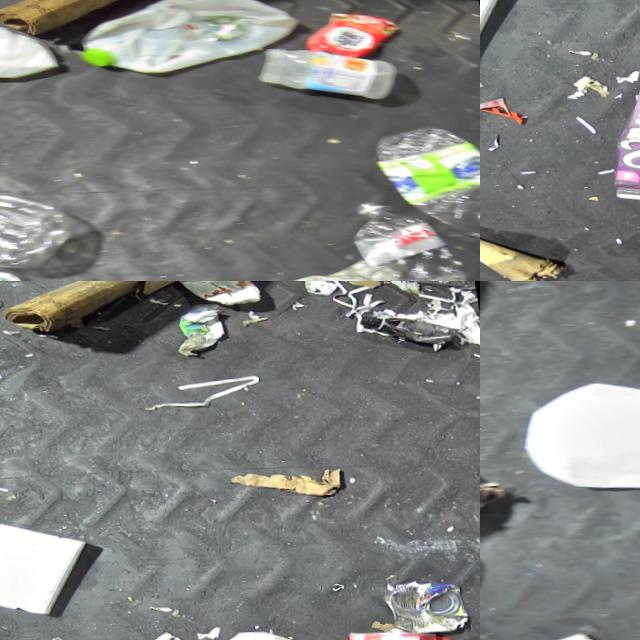can: (299, 4, 407, 57), (371, 574, 465, 633), (175, 281, 266, 305), (336, 623, 435, 640)
milk_jug: (63, 0, 313, 80), (508, 371, 640, 496), (0, 21, 65, 91)
non_white_jug: (585, 69, 640, 207)
plastic_bottle: (364, 118, 480, 257), (335, 191, 468, 281), (0, 182, 77, 274)
